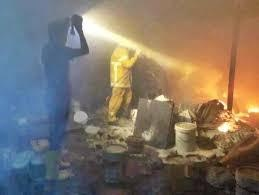fire: (215, 93, 258, 133)
